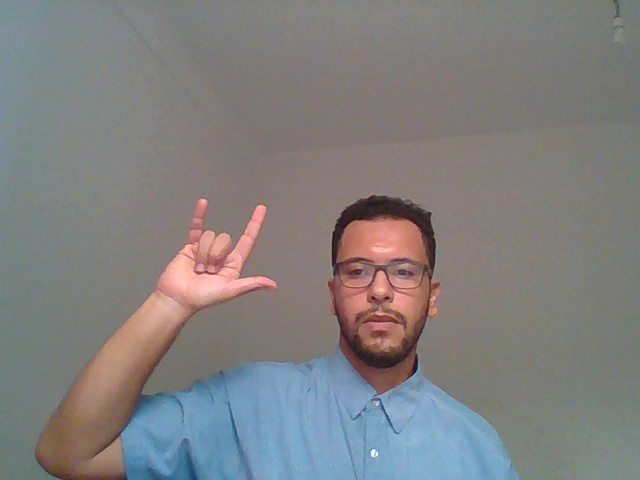iloveyou: (88, 144, 303, 382)
